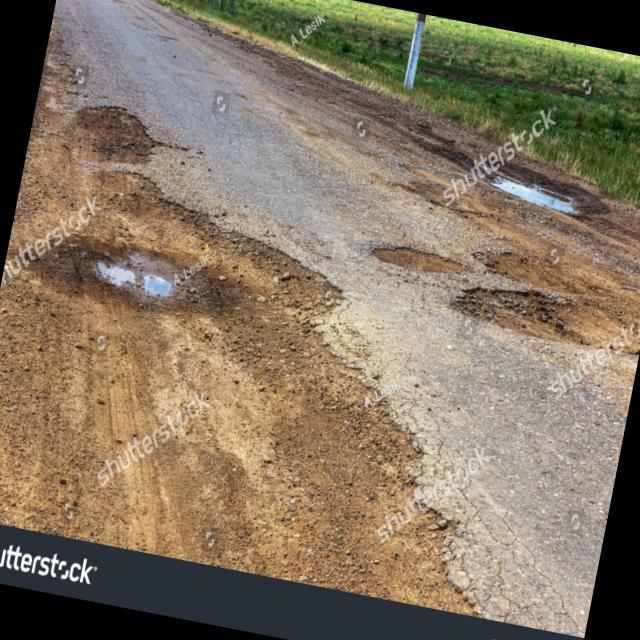Pothole: (448, 278, 618, 366), (68, 221, 212, 318), (63, 84, 172, 182), (487, 153, 594, 230), (360, 226, 478, 286), (478, 240, 560, 294)
